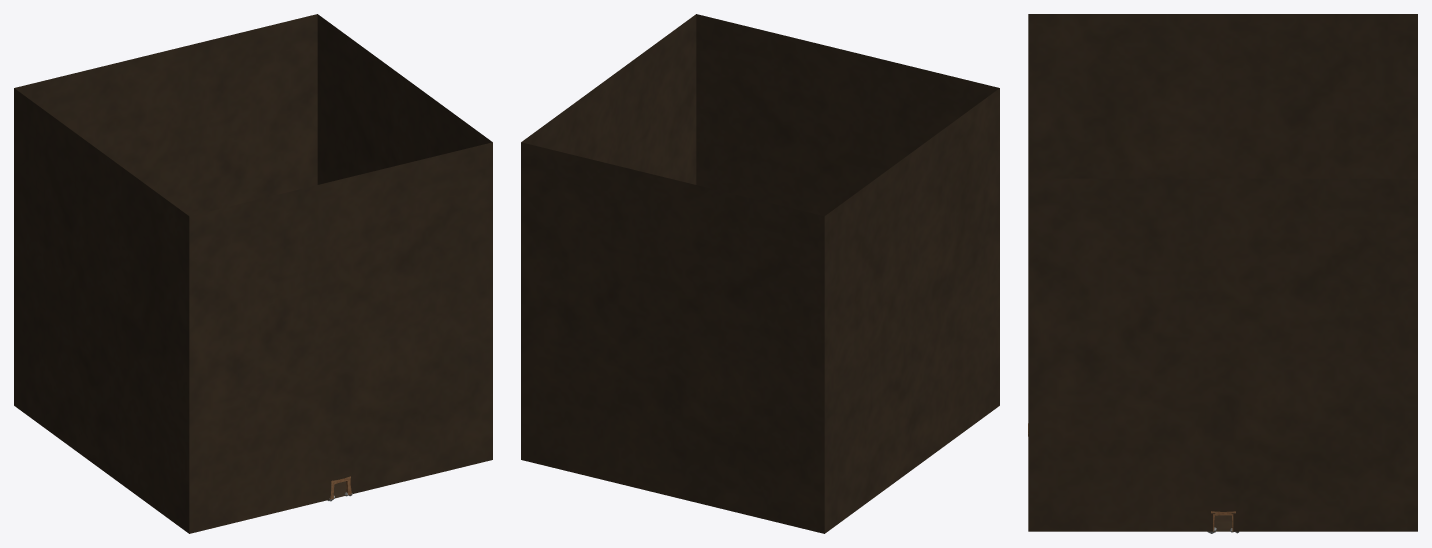
File: contiguous.fbx
The picture shows the model from 3 angles, left to right: view 1: azimuth 30°, elevation 25°; view 2: azimuth 150°, elevation 25°; view 3: azimuth 270°, elevation 25°; orthographic projection. The views are drawn at different scales.
Visible parts, largest first — view 1: 4Pared, 3ParedSinPuerta, 2ParedSinPuerta, 1Pared, 4Pared.001, 4Pared.002; view 2: 2ParedSinPuerta, 3ParedSinPuerta, 4Pared, 1Pared; view 3: 1Pared, 3ParedSinPuerta, 1Pared.001, 1Pared.002.
Boxes of the visible parts, x1,y1,x2,y2 form: 4Pared: (189, 142, 492, 517); 3ParedSinPuerta: (14, 88, 189, 533); 2ParedSinPuerta: (14, 14, 317, 216); 1Pared: (317, 14, 492, 184); 4Pared.001: (189, 483, 331, 533); 4Pared.002: (350, 444, 492, 494); 2ParedSinPuerta: (521, 142, 824, 533); 3ParedSinPuerta: (824, 88, 999, 533); 4Pared: (696, 14, 999, 216); 1Pared: (521, 14, 696, 184); 1Pared: (1028, 178, 1417, 513); 3ParedSinPuerta: (1028, 14, 1417, 178); 1Pared.001: (1233, 514, 1417, 531); 1Pared.002: (1028, 514, 1212, 531).
Bounding box in the file's own units: 9600 × 9693 × 9605.
